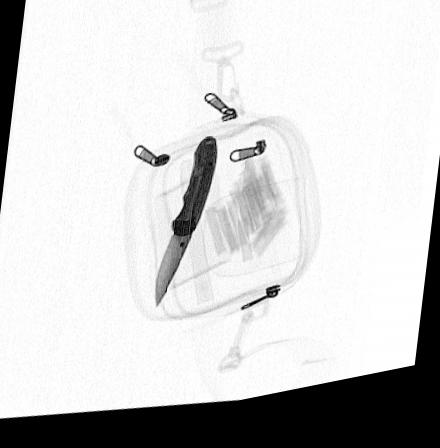Knife: (153, 143, 219, 314)
